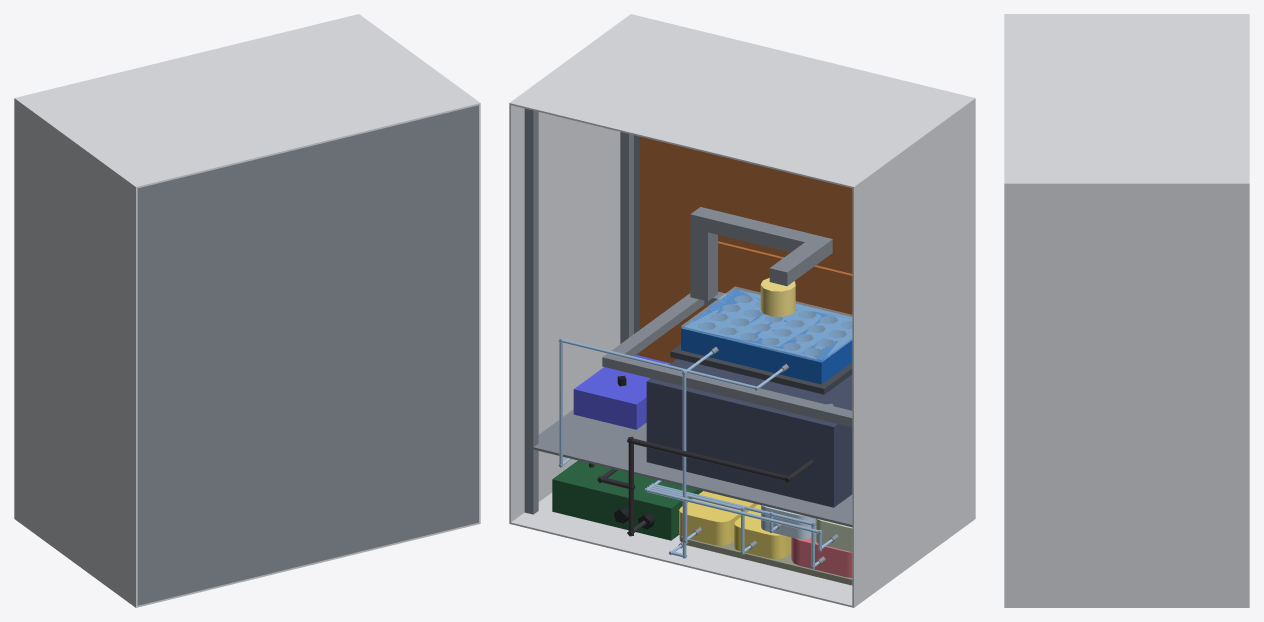
The model's file is MOD-heart-cells.glb.
3 views of the same model, side by side, from view 1: azimuth 30°, elevation 25°; view 2: azimuth 150°, elevation 25°; view 3: azimuth 270°, elevation 25° (orthographic).
Parts seen in each view (by area): view 1: housing__back_panel_bay_interface, housing__side_panel_L, housing__top_panel, housing__bottom_panel, housing__side_panel_R; view 2: housing__side_panel_L, housing__top_panel, housing__side_panel_R, thermal__cold_wall_to_the_bay_s_thermoelectric_block, imaging__microscope_base_optics_filter_cubes_camera, sample__cassette_24_wells_SBS_footprint_19_3_mm_pitch, housing__bottom_panel, housing__shelf_1, sample__cassette_lid_sealed_and_gas_permeable, housing__corner_post_4, electronics__controller_enclosure_boards_data_storage, imaging__XY_stage_frame_travel_96_5_x_57_9_mm_every_well_ove (+19 smaller); view 3: housing__side_panel_R, housing__top_panel, housing__bottom_panel.
Boxes of the visible parts, x1,y1,x2,y2 form: housing__back_panel_bay_interface: (137, 105, 478, 605); housing__side_panel_L: (14, 100, 137, 605); housing__top_panel: (14, 14, 480, 188); housing__bottom_panel: (14, 517, 480, 607); housing__side_panel_R: (479, 105, 480, 522); housing__side_panel_L: (852, 100, 975, 605); housing__top_panel: (509, 14, 975, 188); housing__side_panel_R: (509, 105, 620, 522); thermal__cold_wall_to_the_bay_s_thermoelectric_block: (640, 136, 852, 363); imaging__microscope_base_optics_filter_cubes_camera: (646, 359, 852, 507); sample__cassette_24_wells_SBS_footprint_19_3_mm_pitch: (681, 288, 852, 384); housing__bottom_panel: (509, 492, 975, 607); housing__shelf_1: (524, 409, 852, 527); sample__cassette_lid_sealed_and_gas_permeable: (681, 286, 852, 362); housing__corner_post_4: (524, 108, 538, 514); electronics__controller_enclosure_boards_data_storage: (552, 460, 702, 540); imaging__XY_stage_frame_travel_96_5_x_57_9_mm_every_well_ove: (602, 291, 852, 427); housing__side_panel_R: (1004, 185, 1249, 606); housing__top_panel: (1004, 14, 1249, 185); housing__bottom_panel: (1004, 606, 1249, 607).
Size of the model in its own units: 0.313 by 0.3652 by 0.1913.
